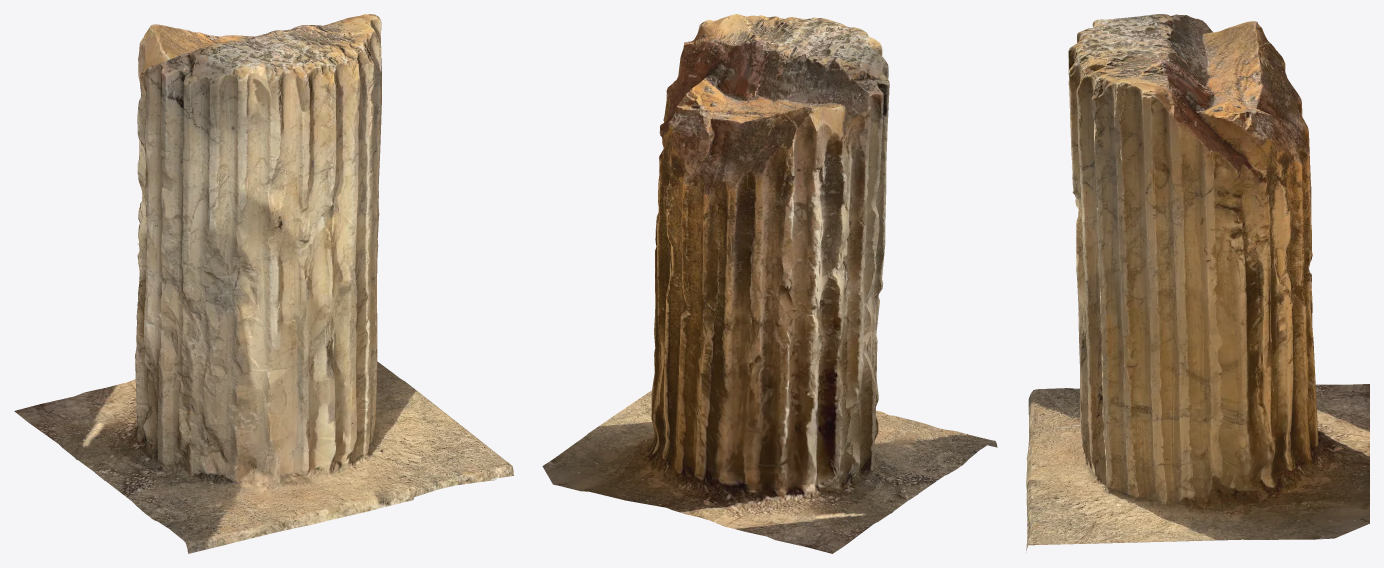
File: fluted-column-fragment.glb
3 renders of one model, left to right at view 1: azimuth 30°, elevation 25°; view 2: azimuth 150°, elevation 25°; view 3: azimuth 270°, elevation 25°, orthographic. The views are drawn at different scales.
Parts seen in each view (by area): view 1: Object_2; view 2: Object_2; view 3: Object_2.
Boxes of the visible parts, box(x1,y1,x2,y2) form: Object_2: box(14, 14, 513, 553); Object_2: box(542, 14, 997, 553); Object_2: box(1026, 14, 1369, 552).
Size of the model in its own units: 0.7228 by 0.9309 by 0.6778.
1 material, 1 textured.
